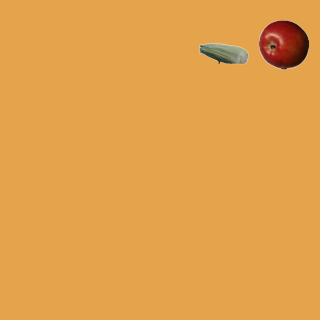Apple Braeburn: (258, 19, 308, 69)
Corn Husk: (198, 28, 248, 78)
